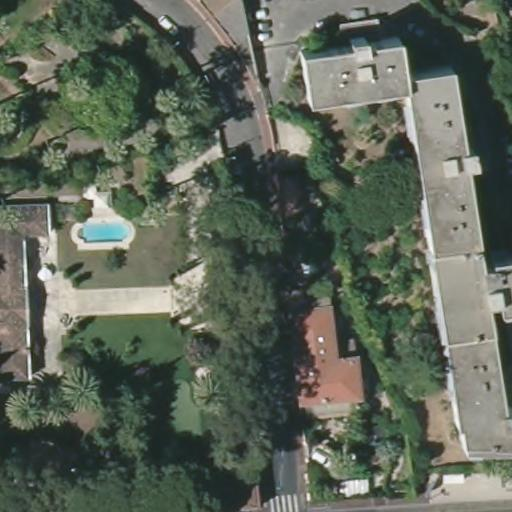pool: (75, 216, 130, 245)
